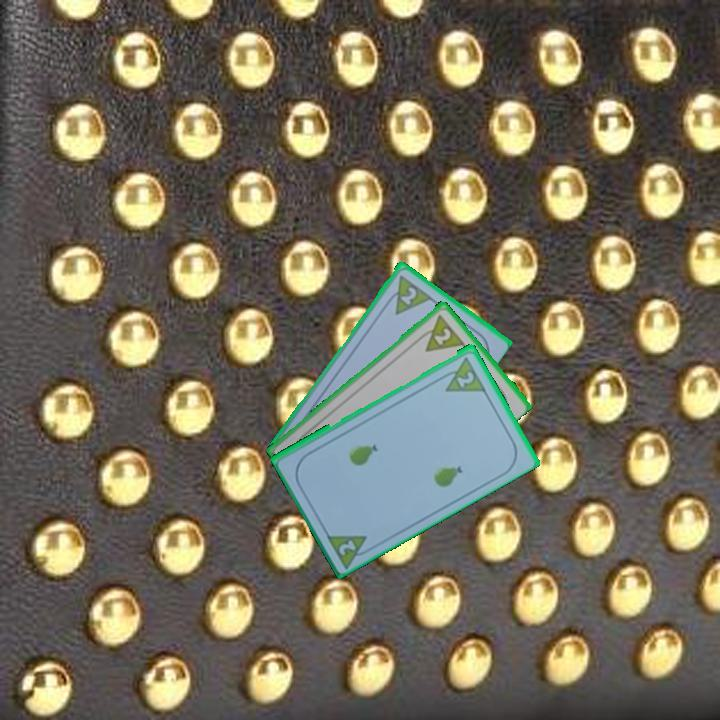2p: (381, 271, 433, 317), (413, 310, 466, 354), (453, 367, 477, 390), (335, 536, 359, 558)
